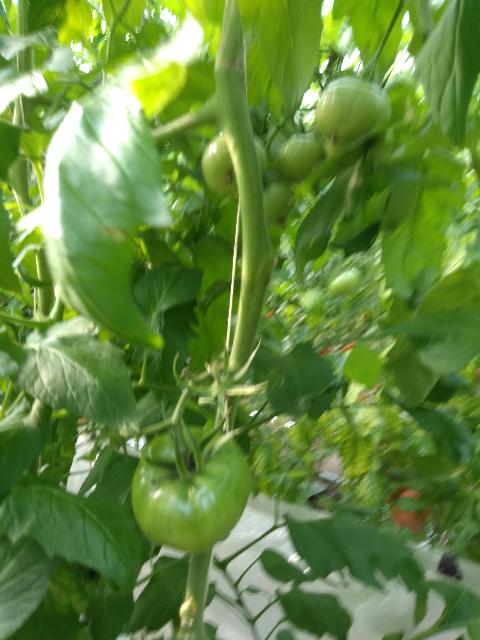b_green: (130, 425, 251, 551), (315, 77, 391, 148), (201, 131, 268, 199), (278, 134, 322, 185), (262, 181, 294, 228)
